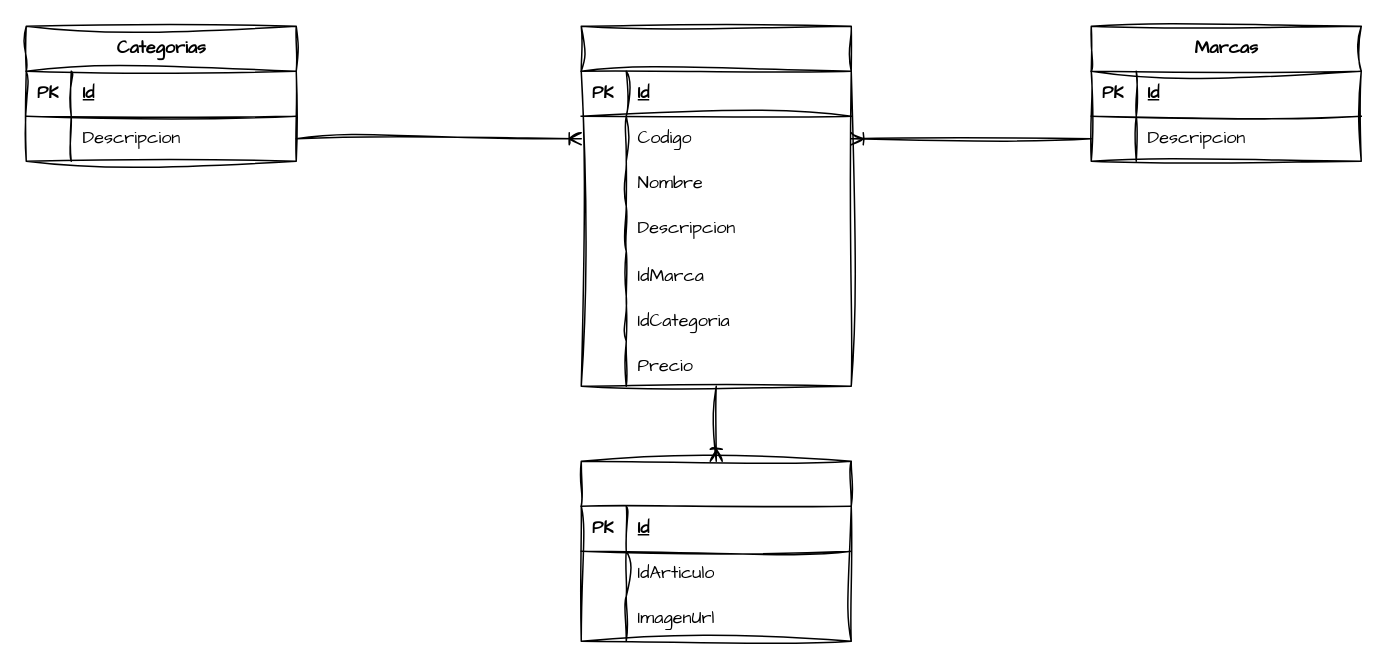
Some shapes in this 1388 by 668 pixel diagram are drawn without their labels. The shapes that lost their labels are listed below. From the top down, each one's box as (x1, y1, x2, y2) in pixels, then its label:
(580, 25, 851, 386): Articulos
(580, 460, 851, 641): Imagenes
